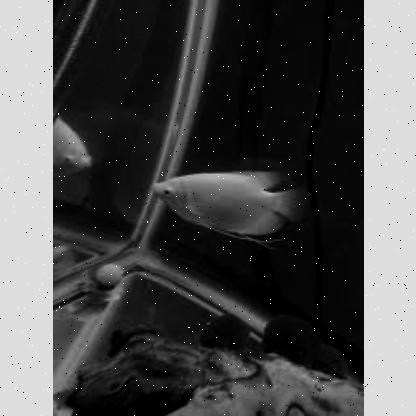gurame: (151, 163, 315, 251)
